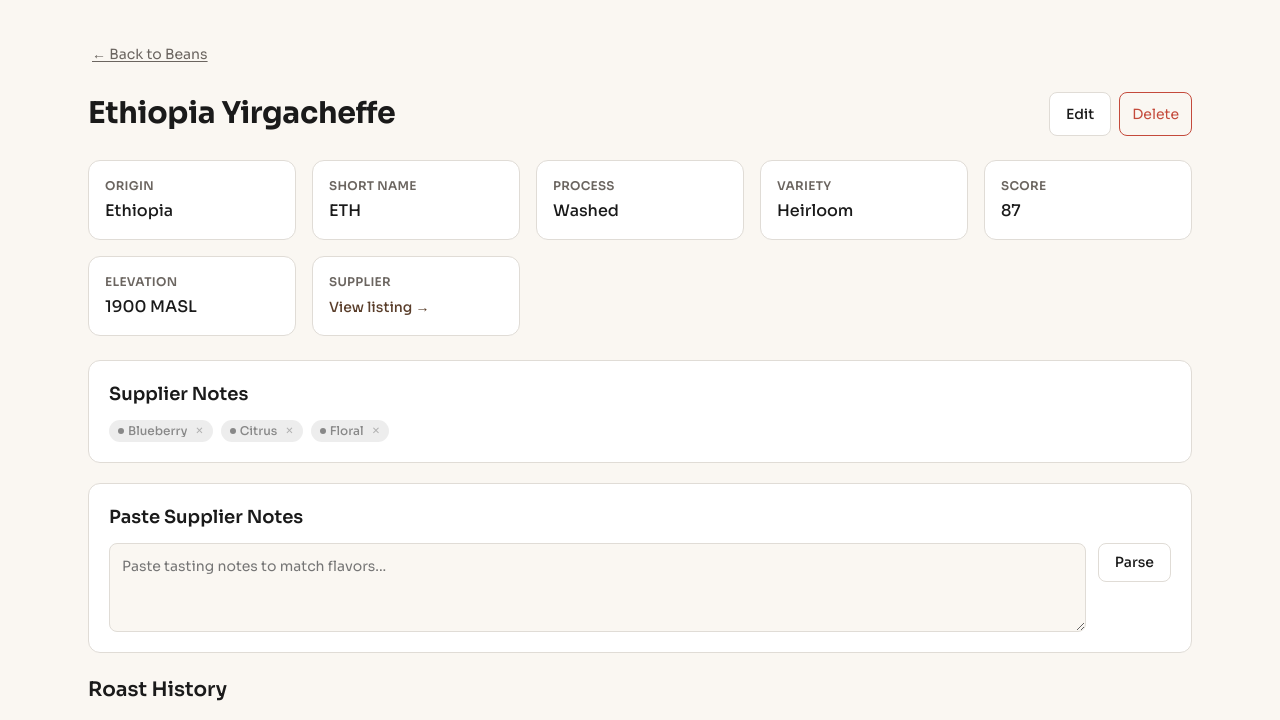
Scenario: BeanDetailPage › editing reveals an input prefilled with current short name
The image size is (1280, 720).
Click the button with test id "edit-btn": (1080, 114) [1049,92,1111,136]
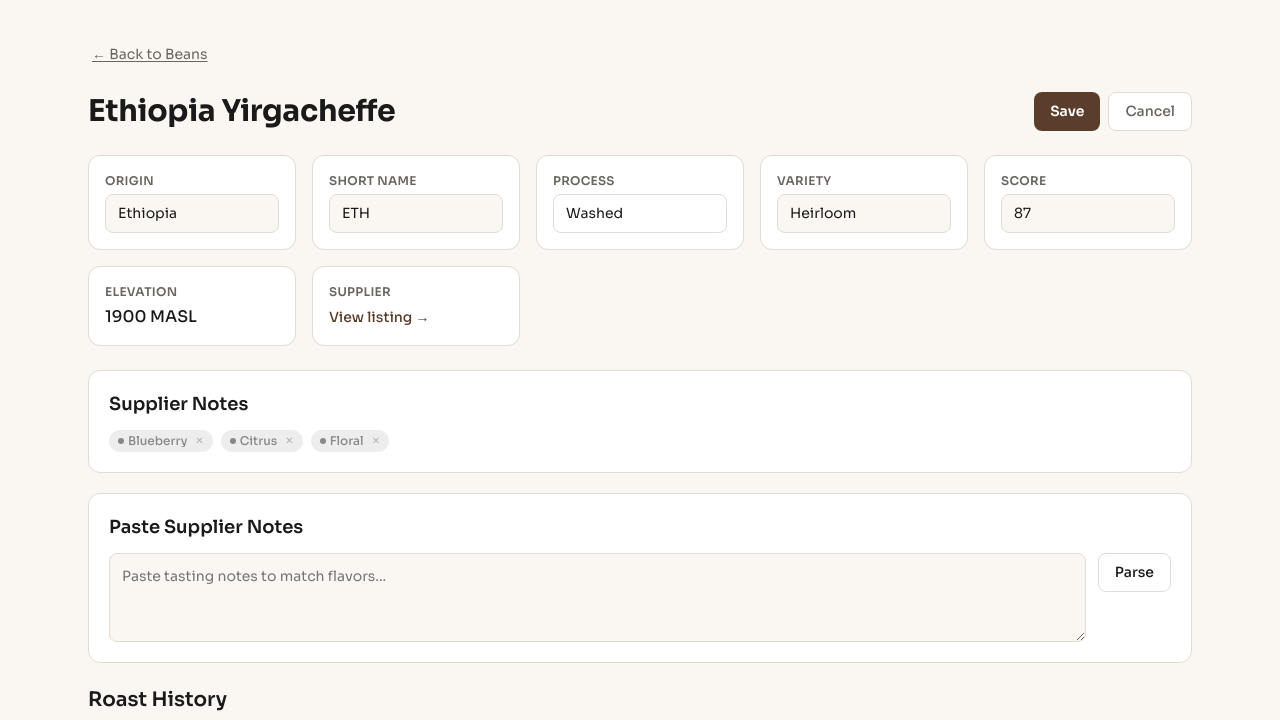
expect the field with test id "short-name-input" holds "ETH": met, box [329,194,503,233]
